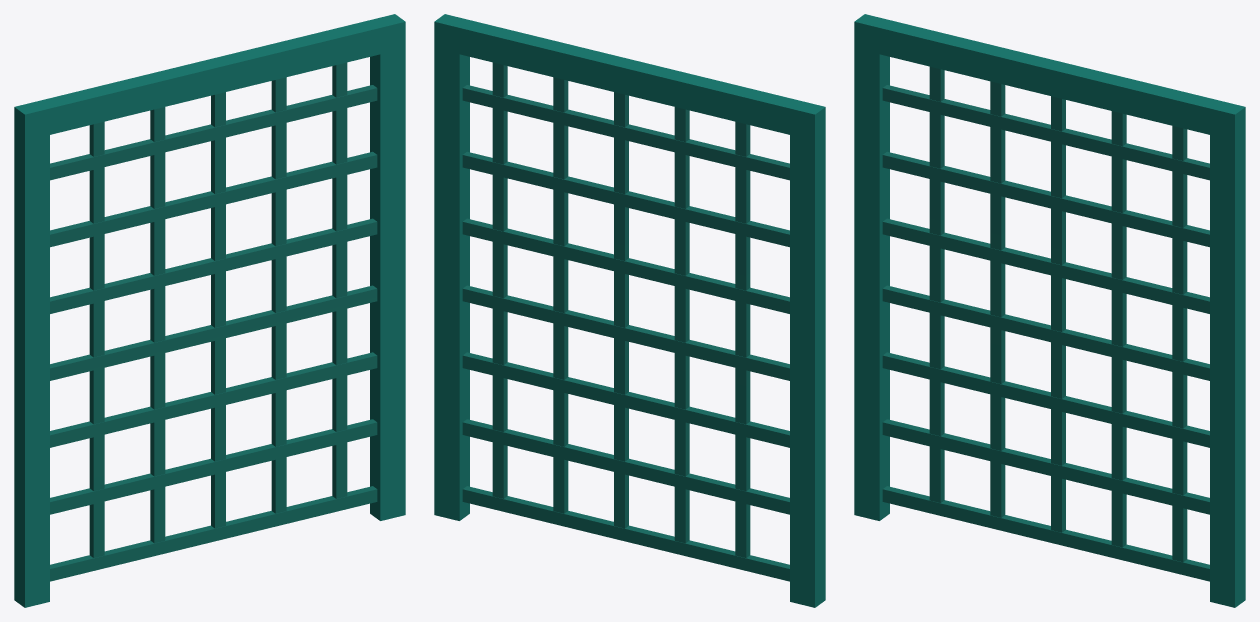
The model's file is Fence_1_E_2.fbx.
The picture shows the model from 3 angles, left to right: view 1: azimuth 30°, elevation 25°; view 2: azimuth 150°, elevation 25°; view 3: azimuth 330°, elevation 25°; orthographic projection.
Parts seen in each view (by area): view 1: Fence_1_E_2; view 2: Fence_1_E_2; view 3: Fence_1_E_2.
Boxes of the visible parts, x1,y1,x2,y2 form: Fence_1_E_2: [14, 14, 405, 607]; Fence_1_E_2: [434, 14, 825, 607]; Fence_1_E_2: [854, 14, 1245, 607].
Bounding box in the file's own units: 200 × 248 × 9.6.
